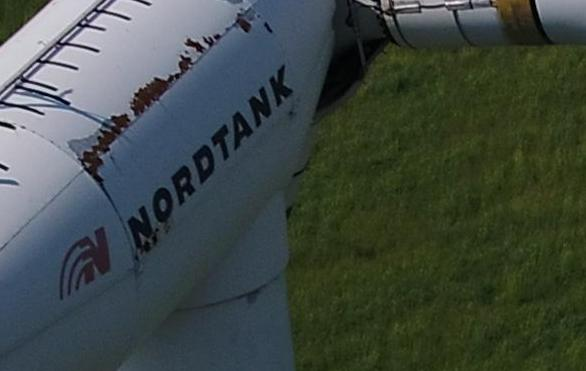damage: (78, 113, 130, 180), (128, 75, 174, 117), (174, 52, 194, 78), (185, 37, 206, 55), (202, 34, 221, 49), (237, 14, 251, 34), (151, 229, 159, 247), (143, 239, 152, 252), (264, 23, 272, 33)
